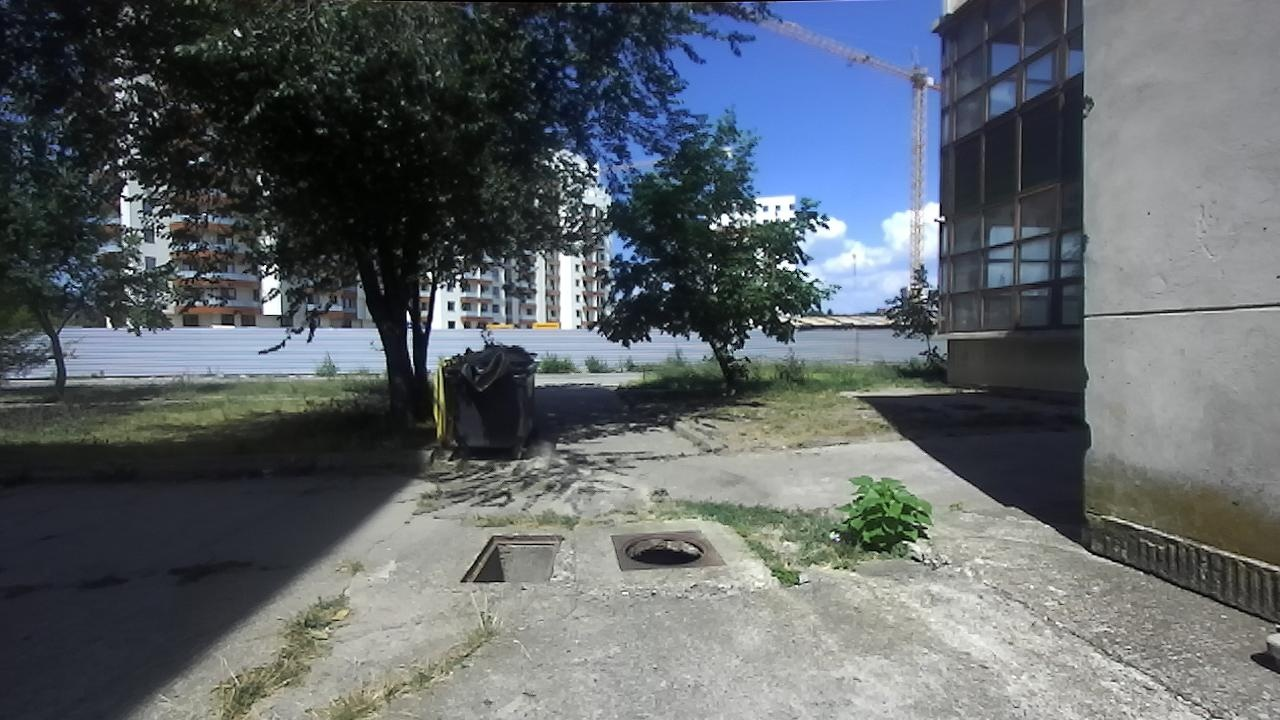drain: (455, 527, 569, 587), (619, 533, 710, 571)
